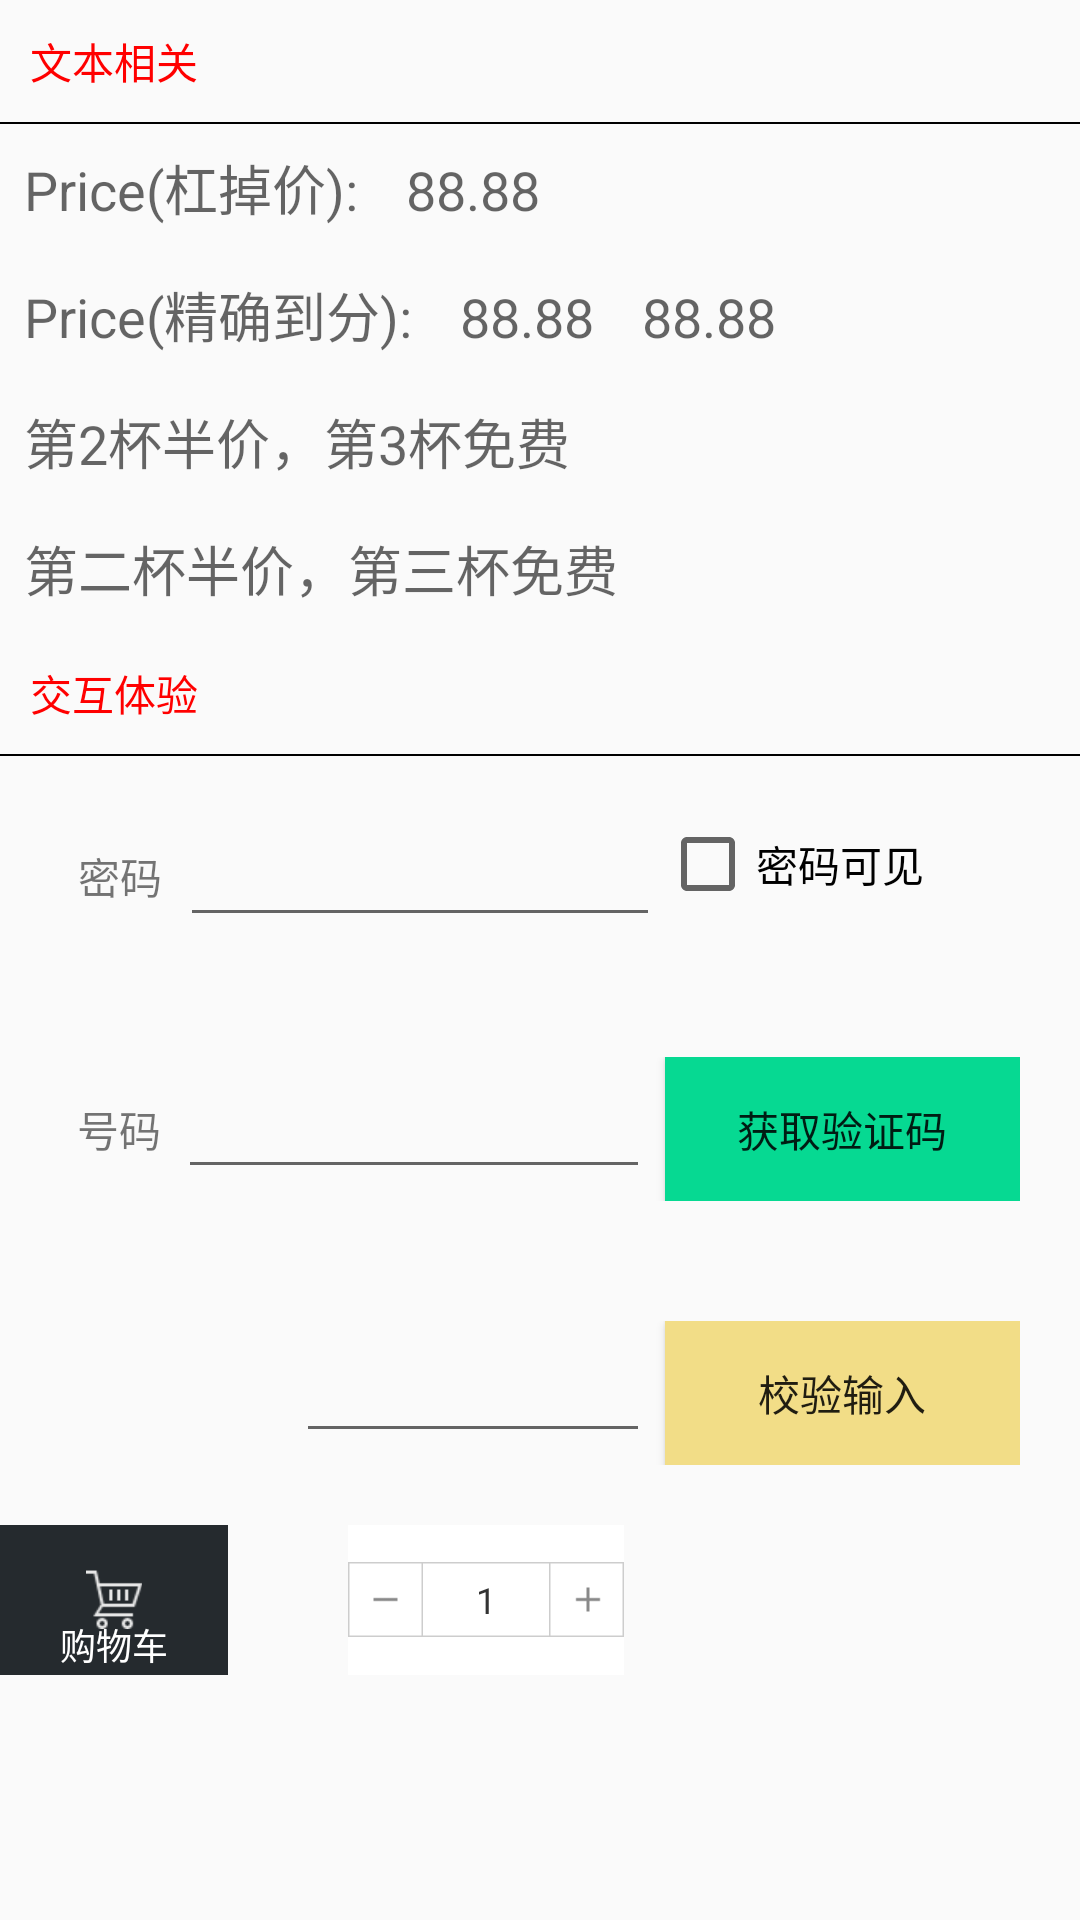

Icon click points for this 1080px x 1920px phone screenshot, format (x,y):
shopcar plus: (586,1599)
shopcar sub: (385,1599)
